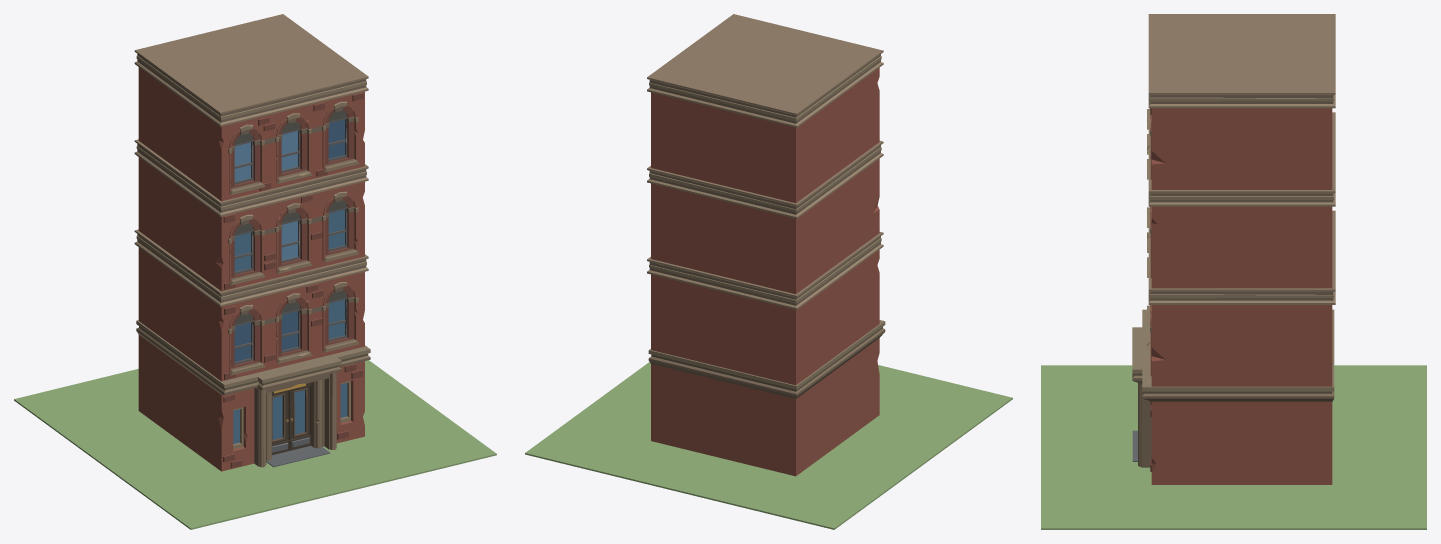
Rendered from apartment.glb.
The picture shows the model from 3 angles, left to right: view 1: azimuth 30°, elevation 25°; view 2: azimuth 150°, elevation 25°; view 3: azimuth 270°, elevation 25°; orthographic projection. The views are drawn at different scales.
Parts seen in each view (by area): view 1: Apt_Stack, Ground, Apt_Base; view 2: Apt_Stack, Ground, Apt_Base; view 3: Apt_Stack, Ground, Apt_Base.
Part boxes in pixels (<box>): Apt_Stack: <box>134,14,368,381</box>; Ground: <box>14,360,496,529</box>; Apt_Base: <box>136,320,370,471</box>; Apt_Stack: <box>647,14,883,385</box>; Ground: <box>525,362,1012,529</box>; Apt_Base: <box>648,320,885,476</box>; Apt_Stack: <box>1147,14,1335,386</box>; Ground: <box>1041,365,1426,529</box>; Apt_Base: <box>1132,309,1334,484</box>.
Size of the model in its own units: 32 by 36.15 by 32.
Materials: 2 (1 with a texture image).
